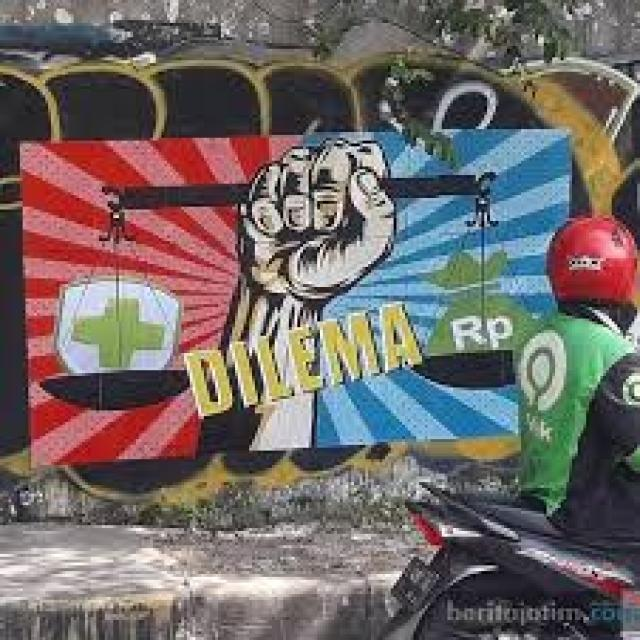-: (0, 66, 640, 494), (21, 128, 570, 468)
